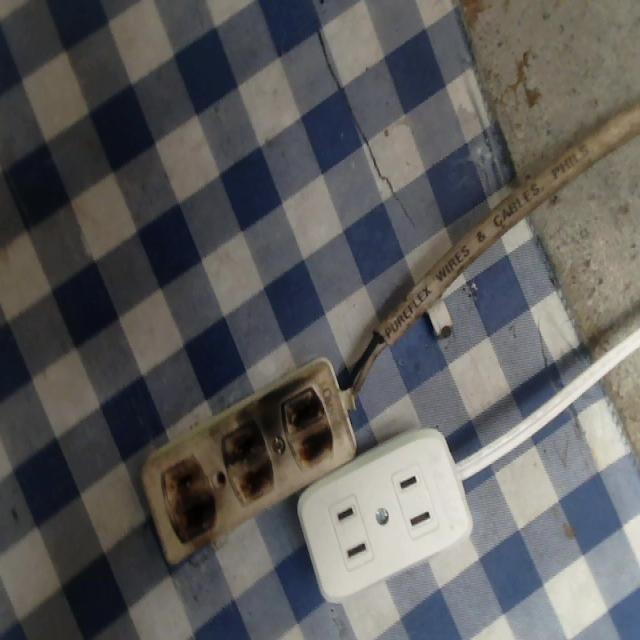-: (161, 452, 228, 548), (276, 384, 338, 469), (221, 424, 276, 501)
